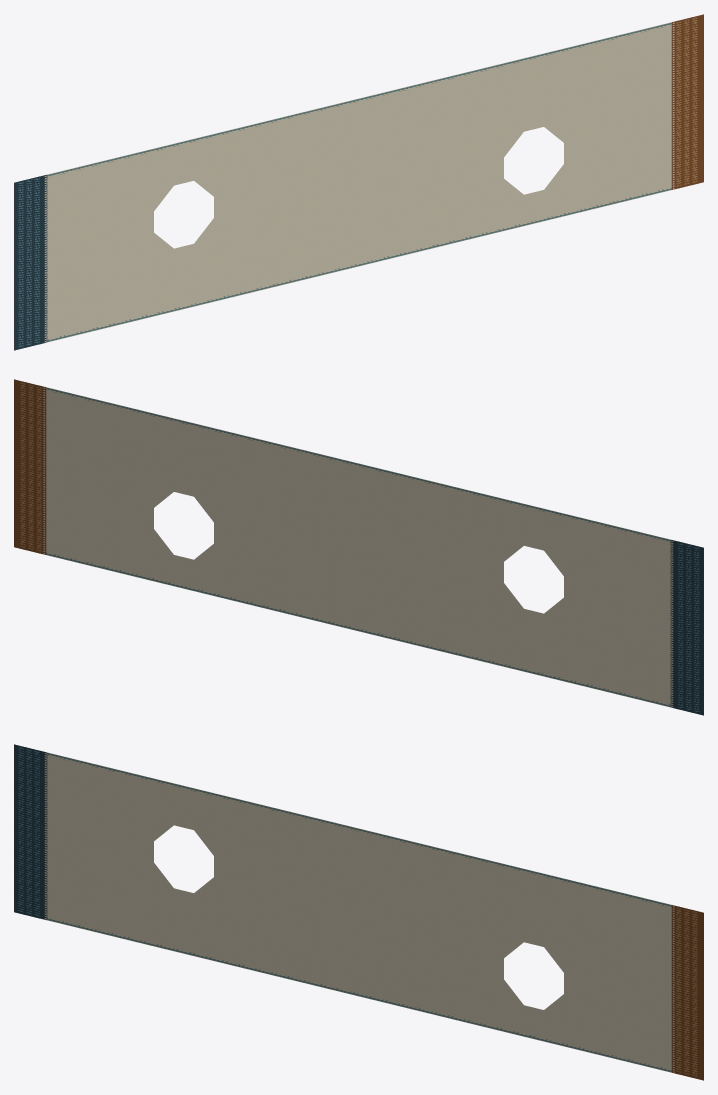
File: cotton.obj
3 renders of one model, top to bottom at view 1: azimuth 30°, elevation 25°; view 2: azimuth 150°, elevation 25°; view 3: azimuth 330°, elevation 25°, orthographic.
Size of the model in its own units: 0.86 by 0.2 by 0.
Materials: 1 (1 with a texture image).
